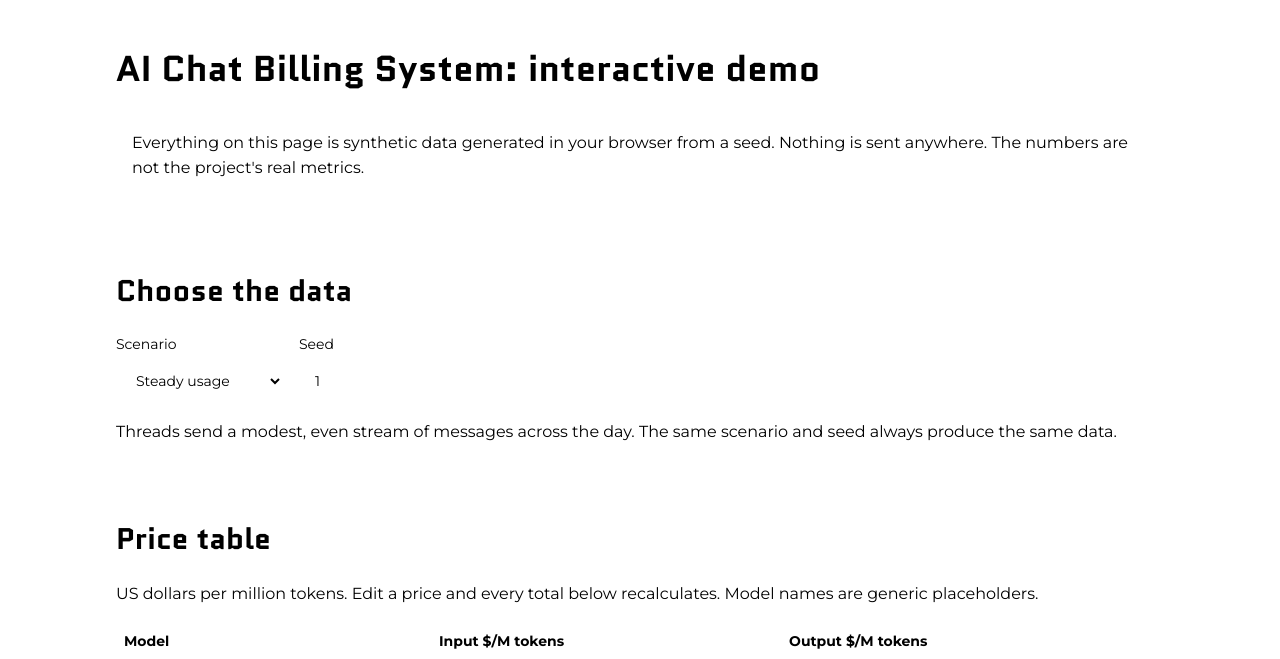
AiBillingLab › switches scenario
Select "Runaway thread" in the dropdown labelled "Scenario" at (200, 381), box [116,359,283,403]
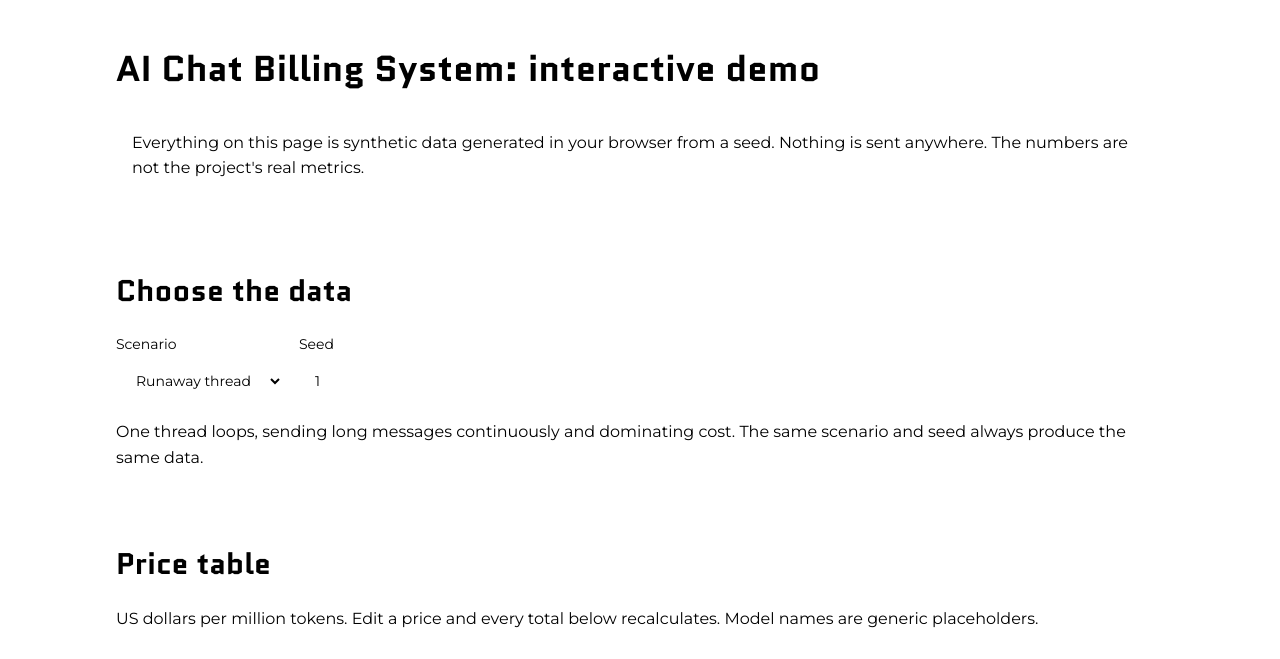
Result: the text "loops" is shown at [116,422,735,441]
